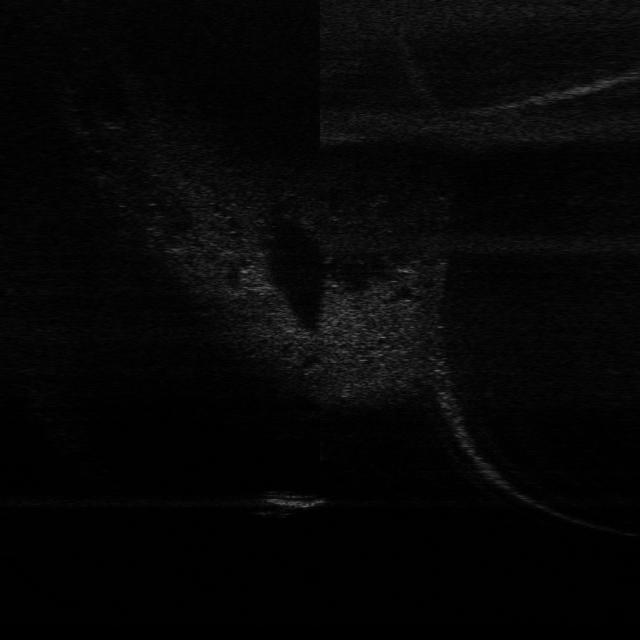cube: (253, 487, 329, 516)
